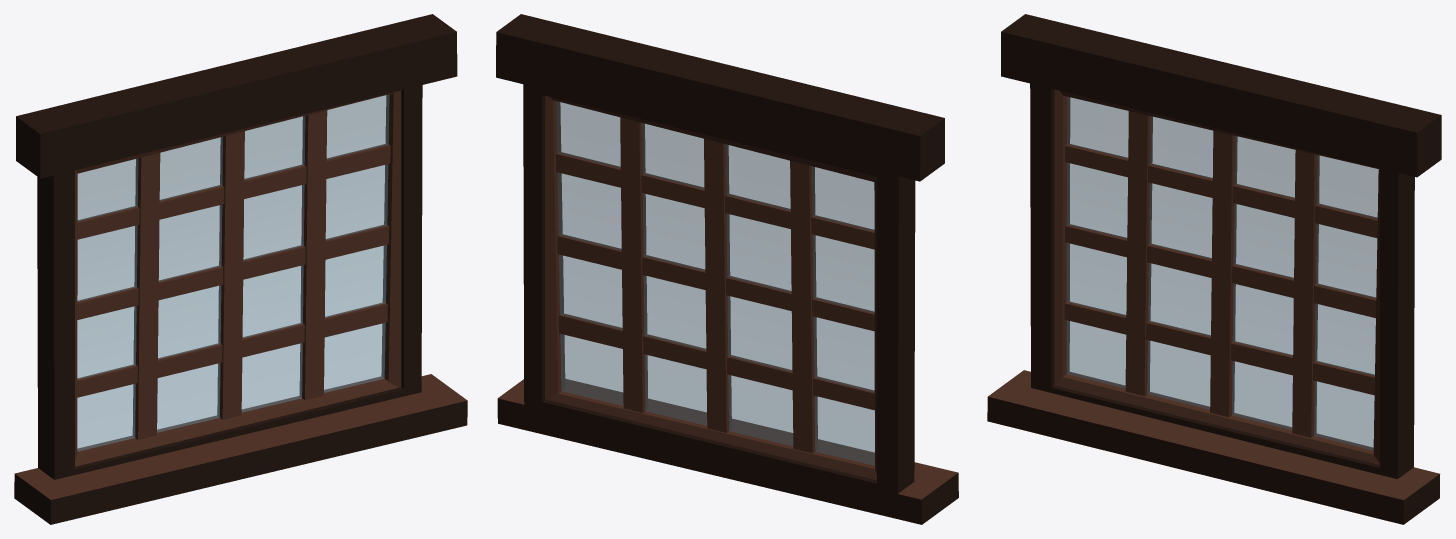
Rendered from Window 4x4 V2 Closed.glb.
3 views of the same model, side by side, from view 1: azimuth 30°, elevation 25°; view 2: azimuth 150°, elevation 25°; view 3: azimuth 330°, elevation 25° (orthographic).
Visible parts, largest first — view 1: Window 4x4 V2 Closed; view 2: Window 4x4 V2 Closed; view 3: Window 4x4 V2 Closed.
Part boxes in pixels (box(x1,y1,x2,y2)): Window 4x4 V2 Closed: box(14, 14, 467, 524); Window 4x4 V2 Closed: box(496, 14, 958, 524); Window 4x4 V2 Closed: box(987, 14, 1441, 524).
Bounding box in the file's own units: 2.35 × 2.06 × 0.3537.
2 materials, 2 textured.
